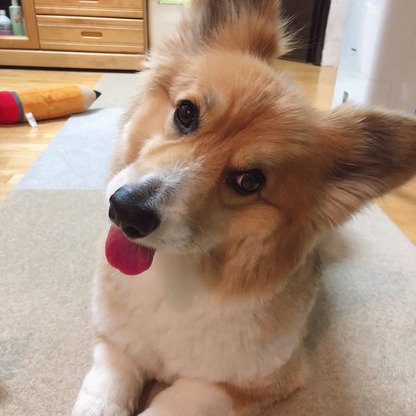Corgi: (102, 9, 394, 405)
